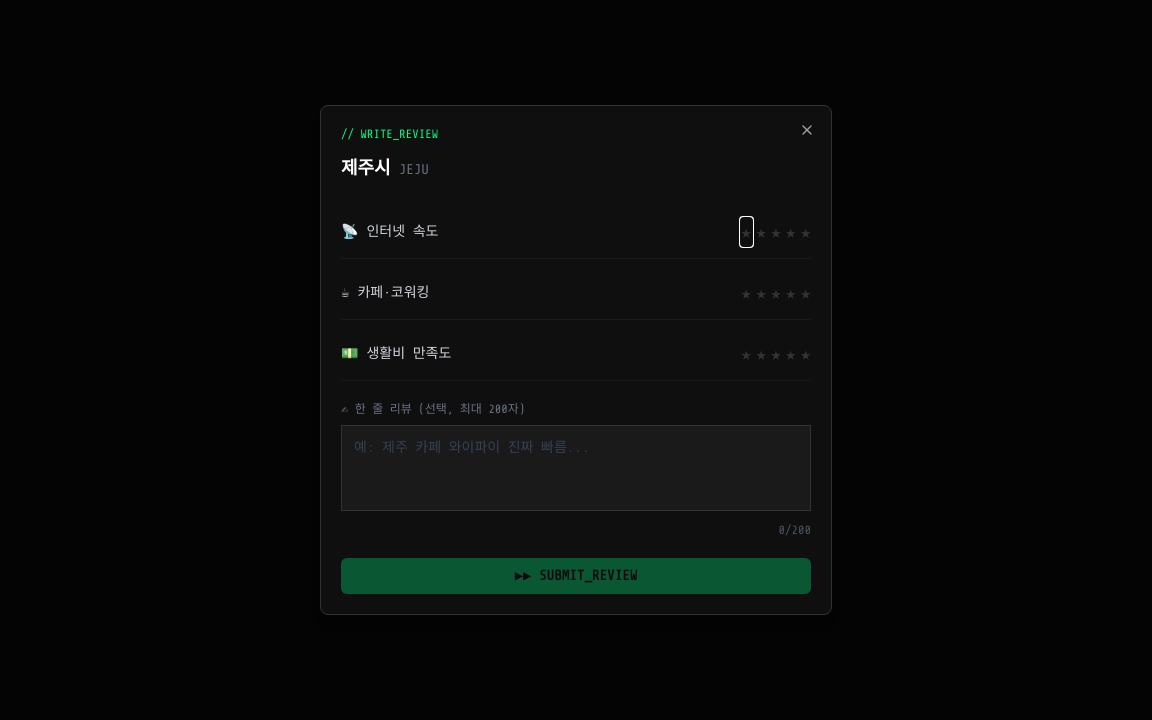
ReviewModal › cityId 있음 + 로그인 케이스 › 별점 1개 이상 입력하면 제출 버튼이 활성화된다
Click the 1st button "★".
click(746, 232)  # box [741,218,752,246]
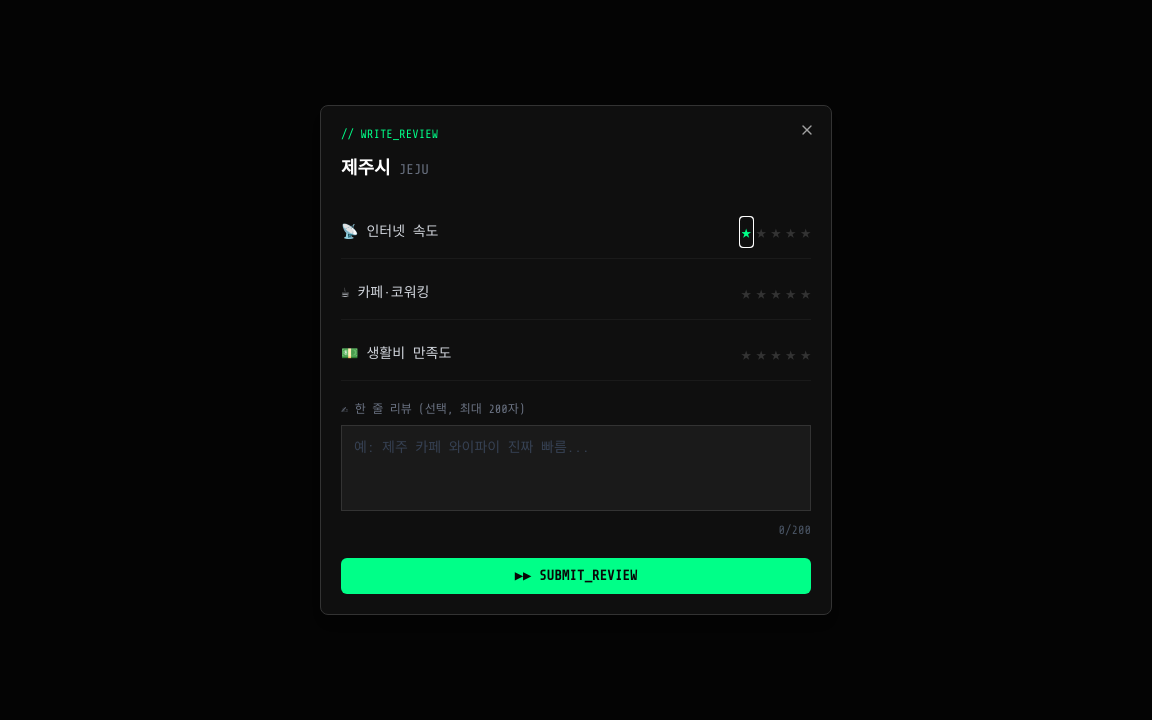
Result: the button "▶▶ SUBMIT_REVIEW" is enabled at [341,558,811,594]
